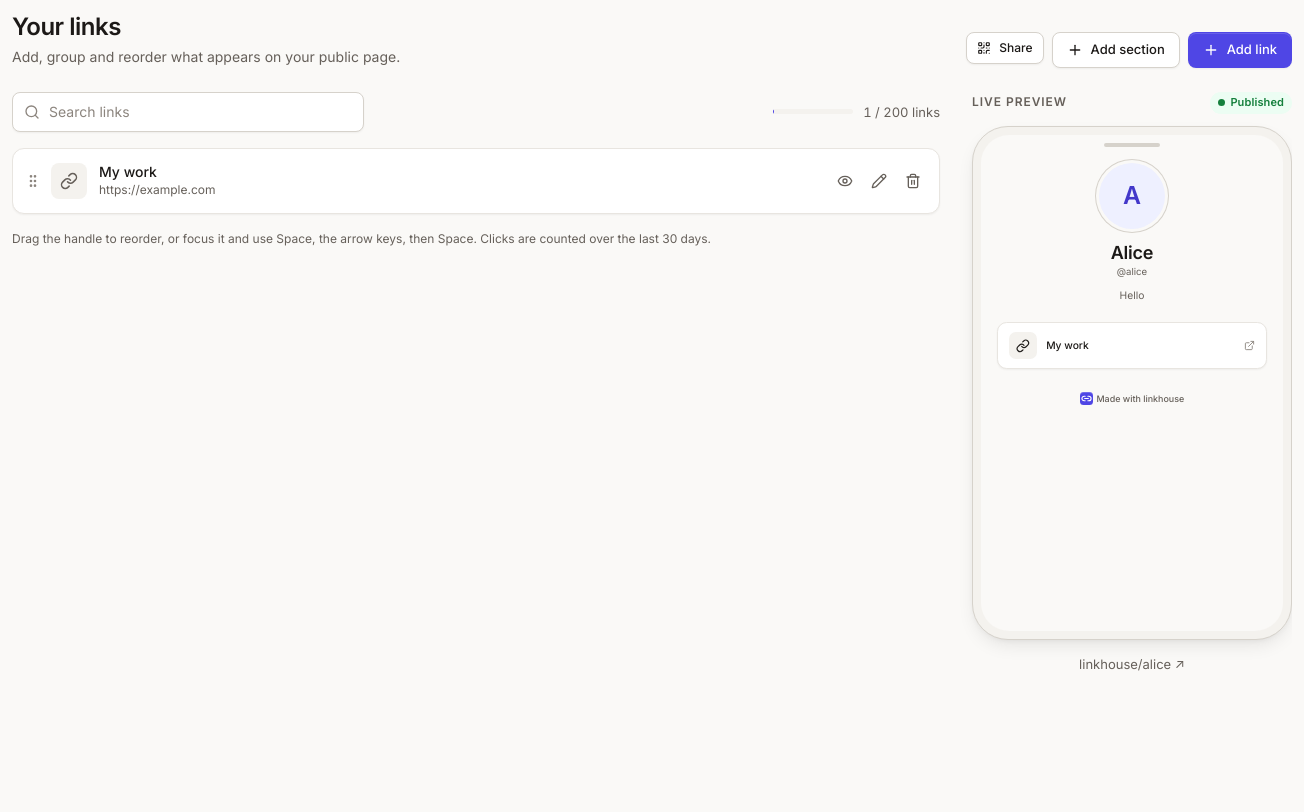
optimistically toggles visibility and persists it
The width and height of the screenshot is (1304, 812).
Click the button named "Hide My work". click: (845, 181)
box: [829,165,861,197]
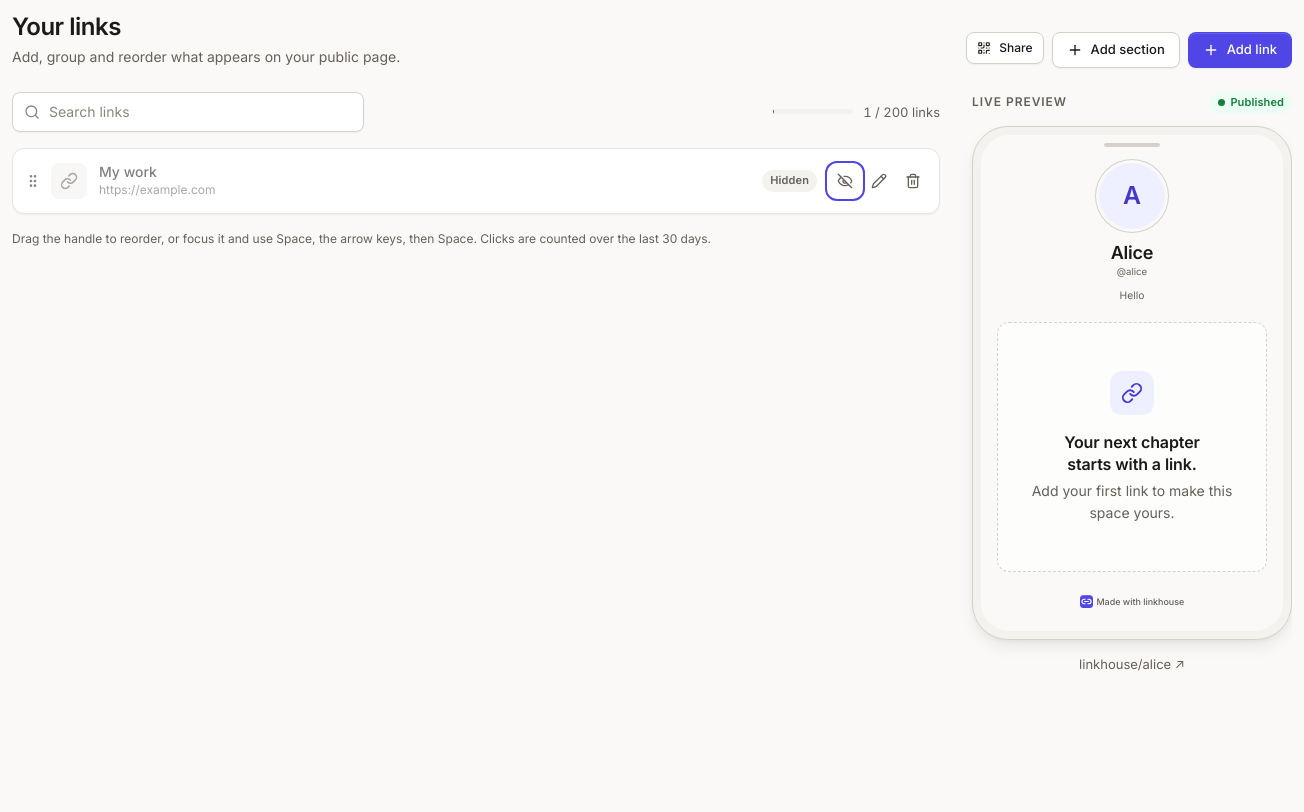
Check: the button named "Show My work" is shown, box [829,165,861,197]
